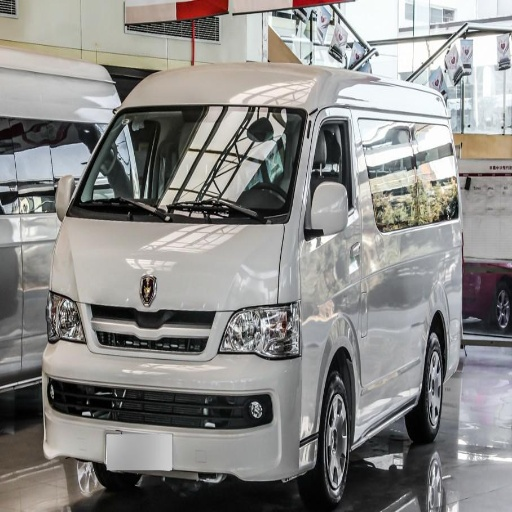front_bumper: (46, 301, 324, 481)
front_glass: (67, 106, 293, 223)
front_left_door: (304, 116, 357, 241), (358, 269, 399, 419)
front_right_light: (48, 291, 85, 342)
trunk: (405, 227, 466, 325)
